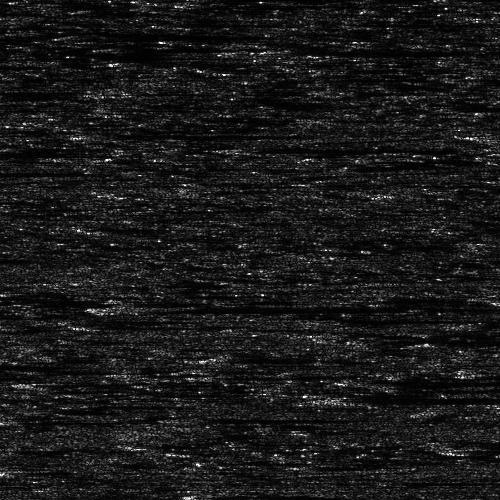object: (427, 440, 490, 457), (211, 47, 316, 56), (86, 303, 191, 312), (199, 350, 262, 363), (314, 394, 397, 403), (221, 143, 284, 152), (167, 490, 240, 497), (329, 377, 382, 386), (58, 131, 121, 136), (177, 417, 208, 420)
shadow: (138, 303, 456, 312), (253, 143, 456, 152), (230, 350, 369, 363), (204, 490, 422, 497), (356, 377, 500, 386), (356, 394, 500, 403), (0, 61, 165, 68), (90, 131, 283, 136), (264, 47, 369, 56), (458, 440, 500, 457), (0, 167, 64, 174), (192, 417, 327, 420), (0, 302, 40, 309), (0, 310, 32, 317)
